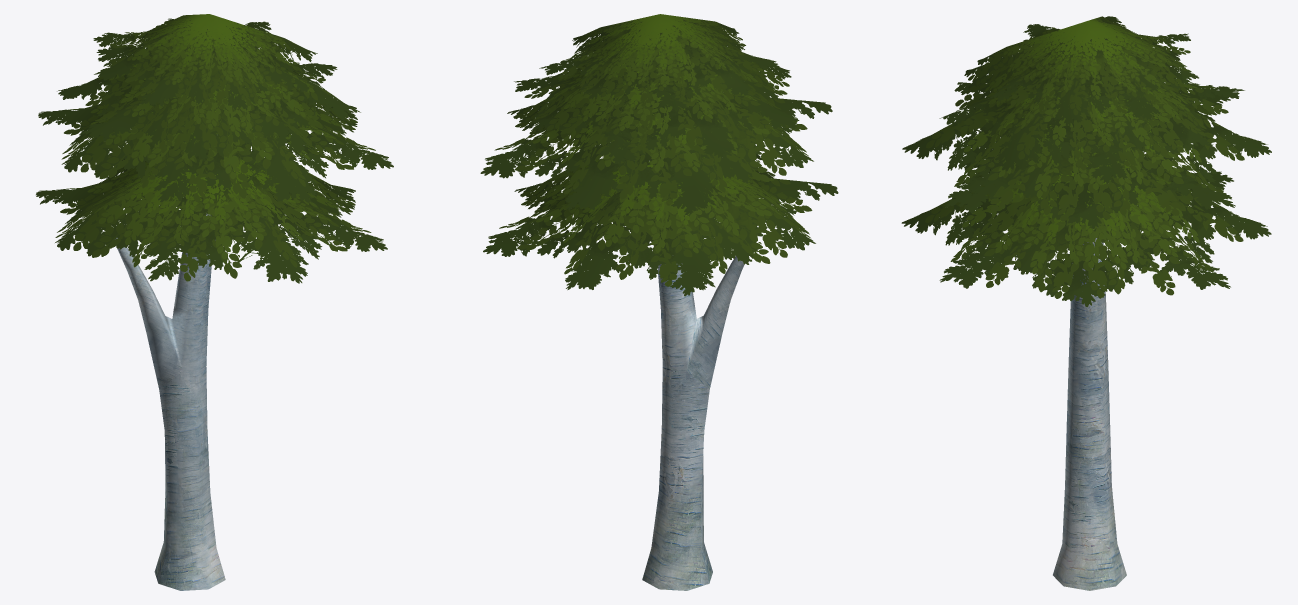
File: Tree_6.fbx
The picture shows the model from 3 angles, left to right: view 1: azimuth 30°, elevation 25°; view 2: azimuth 150°, elevation 25°; view 3: azimuth 270°, elevation 25°; orthographic projection.
Parts seen in each view (by area): view 1: polySurface192; view 2: polySurface192; view 3: polySurface192.
Boxes of the visible parts, x1,y1,x2,y2 form: polySurface192: (36, 14, 393, 590); polySurface192: (480, 14, 838, 590); polySurface192: (901, 16, 1271, 590).
Size of the model in its own units: 441 by 720 by 450.
